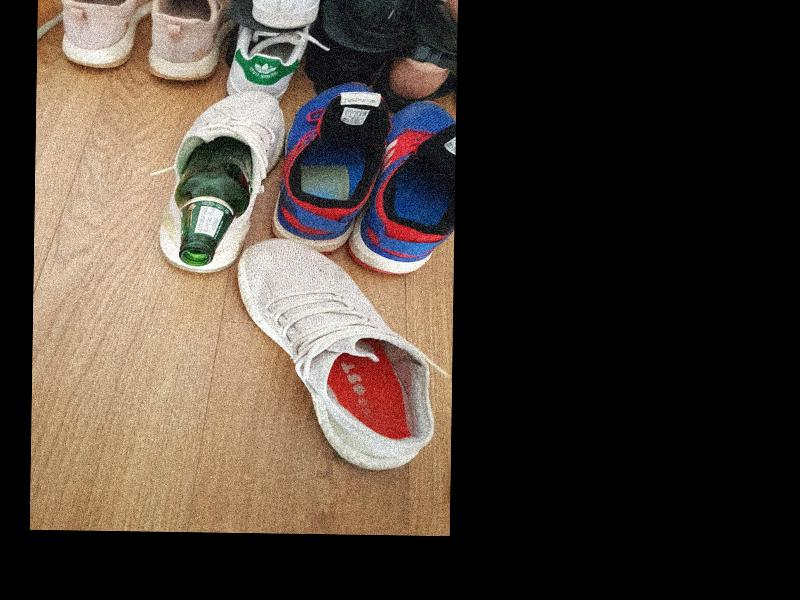Beer: (173, 137, 254, 267)
